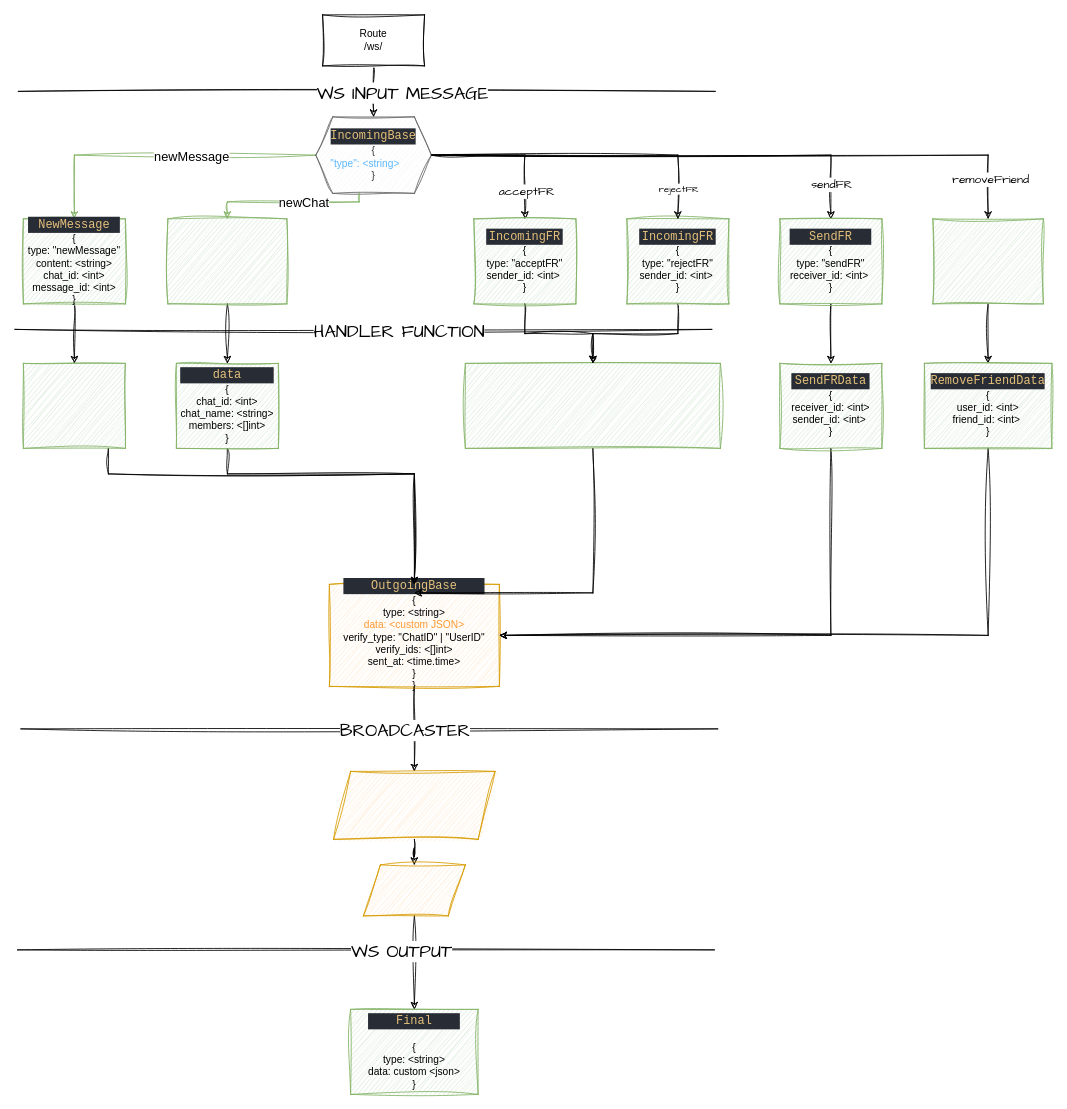
This 1067x1109 diagram has some shape labels left out. The centre of each missing label's shape, as x and y in pixels:
data { content: <string> }: [74,405]
IncomingFRData { sender_id: <int> receiver_id: <int> }: [592,405]
NewChat { type: "newChat" members: <[]int> chat_name: <string | ""> }: [227,261]
RemoveFriend { type: "removeFriend" friend_id: <int> }: [987,261]
Send data further: [414,890]
Verifies whom to send the message by verift_type and vefity_ids: [414,805]
